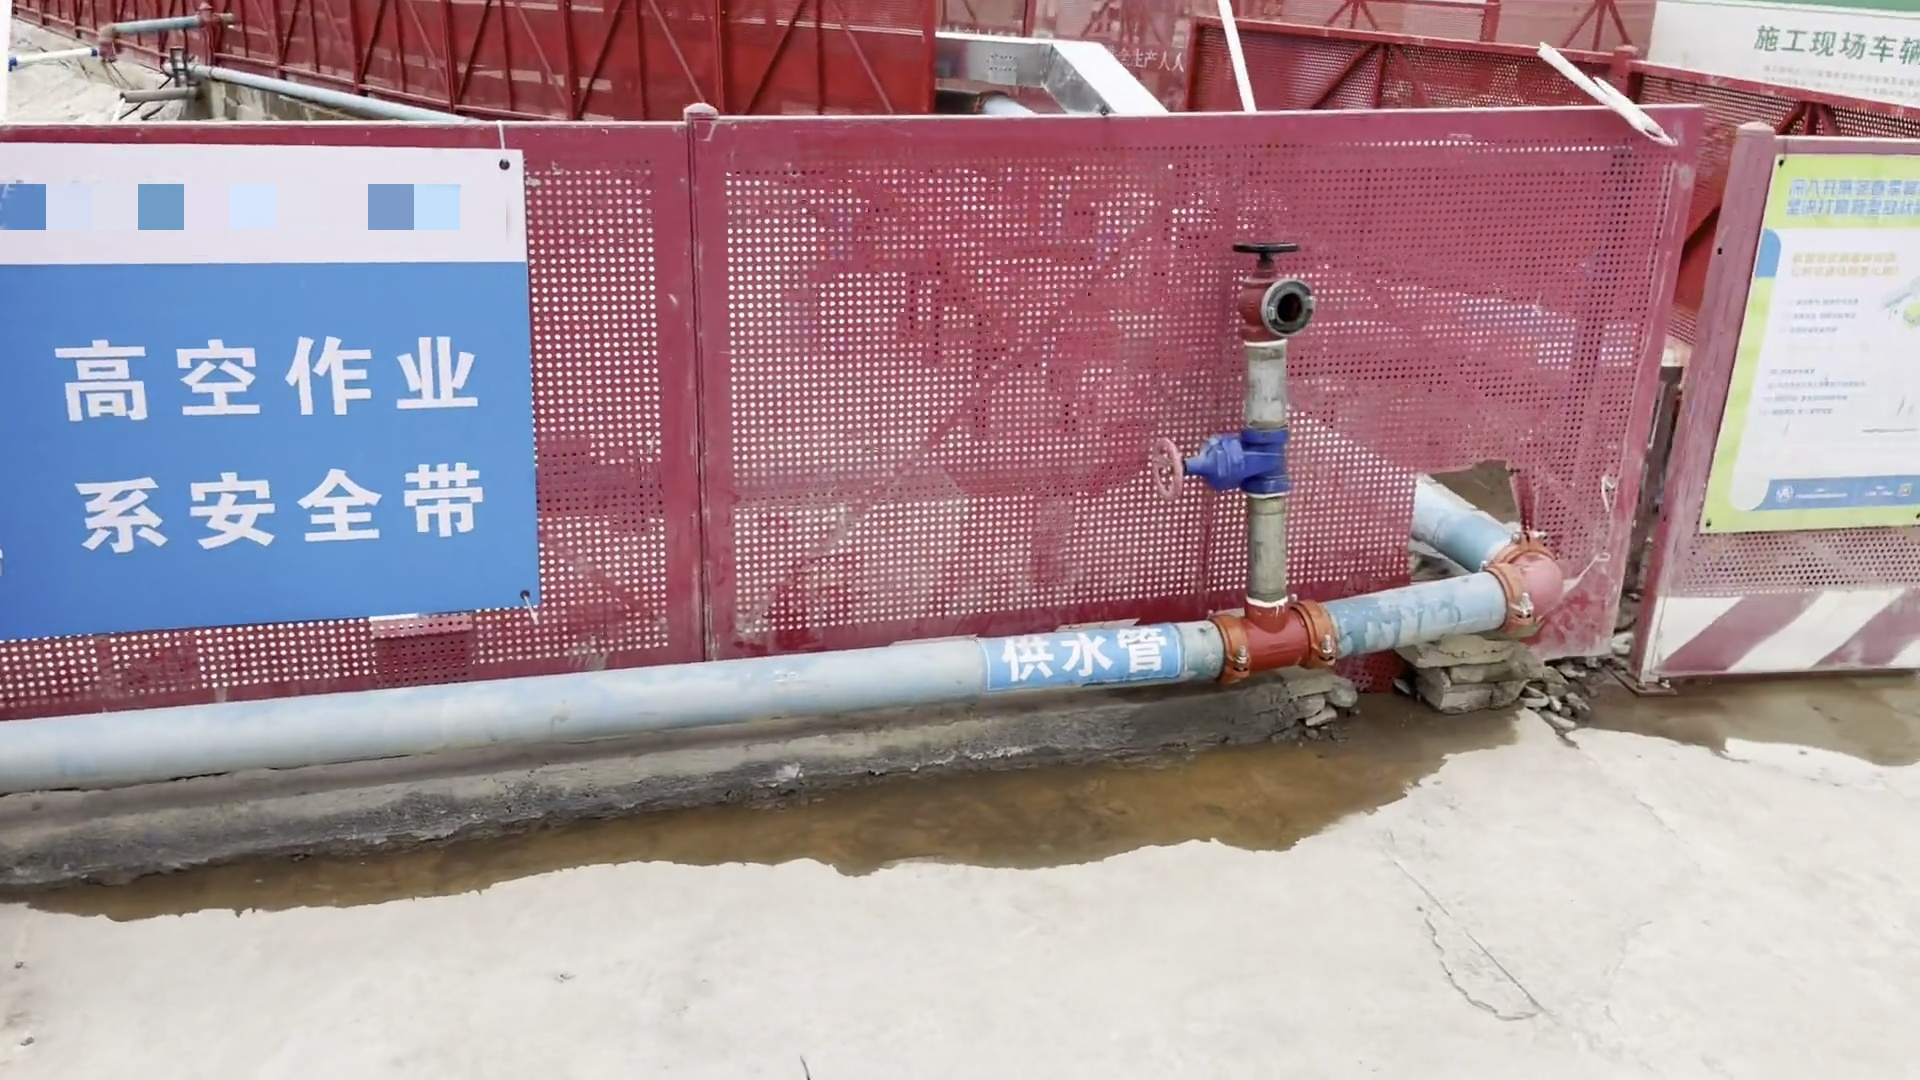fence: (121, 80, 1920, 709)
slogan: (1, 164, 539, 636), (1768, 131, 1920, 502), (1730, 4, 1920, 94)
